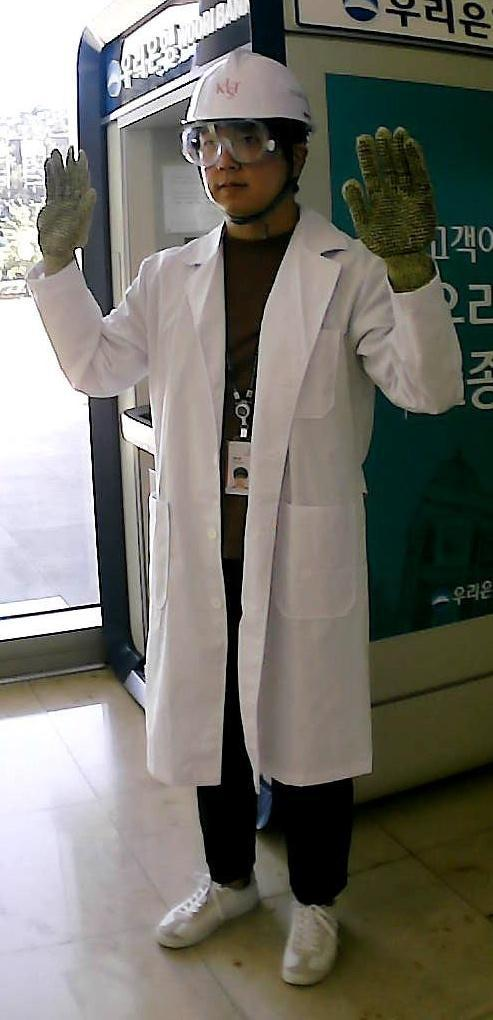lab_coat: (145, 258, 372, 771)
